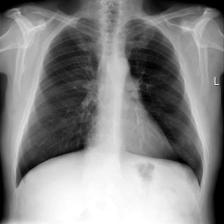normal: (12, 13, 208, 194)
